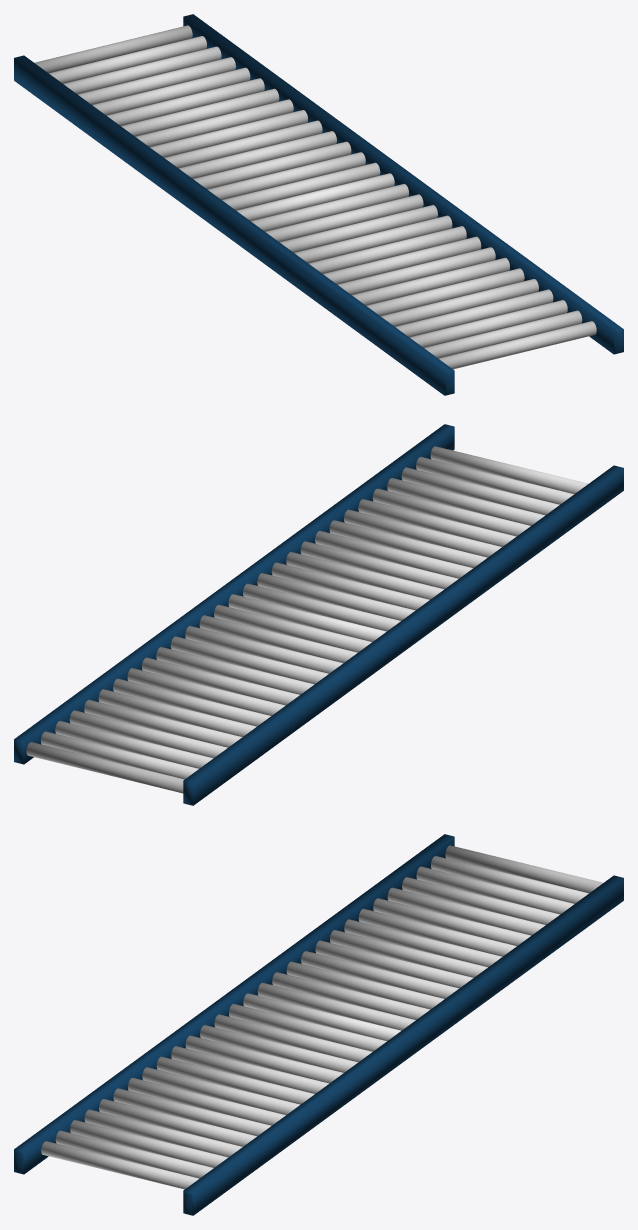
File: uploads_files_3083211_Conveyor+belt (1).fbx
3 renders of one model, top to bottom at view 1: azimuth 30°, elevation 25°; view 2: azimuth 150°, elevation 25°; view 3: azimuth 330°, elevation 25°, orthographic.
Visible parts, largest first — view 1: Belt, Cylinder 2, Cylinder 5, Cylinder 4, Cylinder 11, Cylinder 12, Cylinder 23, Cylinder 18, Cylinder 21, Cylinder 30, Cylinder 26, Cylinder 28 (+18 smaller); view 2: Belt, Cylinder 30, Cylinder 4, Cylinder 25, Cylinder 6, Cylinder 7, Cylinder 18, Cylinder 26, Cylinder 1, Cylinder 9, Cylinder 10, Cylinder 11 (+18 smaller); view 3: Belt, Cylinder 2, Cylinder 5, Cylinder 4, Cylinder 11, Cylinder 12, Cylinder 23, Cylinder 18, Cylinder 21, Cylinder 30, Cylinder 26, Cylinder 28 (+18 smaller).
Part boxes in pixels (left/top/right/bottom): Belt: left=14, top=14, right=623, bottom=395; Cylinder 2: left=438, top=321, right=596, bottom=369; Cylinder 5: left=395, top=289, right=553, bottom=337; Cylinder 4: left=409, top=300, right=567, bottom=347; Cylinder 11: left=308, top=226, right=466, bottom=273; Cylinder 12: left=294, top=215, right=452, bottom=263; Cylinder 23: left=135, top=99, right=293, bottom=147; Cylinder 18: left=207, top=152, right=365, bottom=199; Cylinder 21: left=164, top=120, right=322, bottom=168; Cylinder 30: left=34, top=25, right=192, bottom=73; Cylinder 26: left=92, top=67, right=250, bottom=115; Cylinder 28: left=63, top=46, right=221, bottom=94; Belt: left=14, top=424, right=623, bottom=805; Cylinder 30: left=26, top=742, right=184, bottom=793; Cylinder 4: left=401, top=467, right=559, bottom=515; Cylinder 25: left=98, top=689, right=256, bottom=736; Cylinder 6: left=372, top=488, right=530, bottom=536; Cylinder 7: left=358, top=499, right=516, bottom=546; Cylinder 18: left=199, top=615, right=357, bottom=662; Cylinder 26: left=84, top=699, right=242, bottom=747; Cylinder 1: left=228, top=594, right=386, bottom=641; Cylinder 9: left=329, top=520, right=487, bottom=567; Cylinder 10: left=315, top=530, right=472, bottom=578; Cylinder 11: left=300, top=541, right=458, bottom=589; Belt: left=14, top=834, right=623, bottom=1215; Cylinder 2: left=41, top=1141, right=199, bottom=1189; Cylinder 5: left=84, top=1109, right=242, bottom=1157; Cylinder 4: left=70, top=1120, right=228, bottom=1167; Cylinder 11: left=171, top=1046, right=329, bottom=1093; Cylinder 12: left=185, top=1035, right=343, bottom=1083; Cylinder 23: left=344, top=919, right=502, bottom=967; Cylinder 18: left=272, top=972, right=430, bottom=1019; Cylinder 21: left=315, top=940, right=473, bottom=988; Cylinder 30: left=445, top=845, right=603, bottom=893; Cylinder 26: left=387, top=887, right=545, bottom=935; Cylinder 28: left=416, top=866, right=574, bottom=914.
Bounding box in the file's own units: 718 × 87.06 × 2999.
